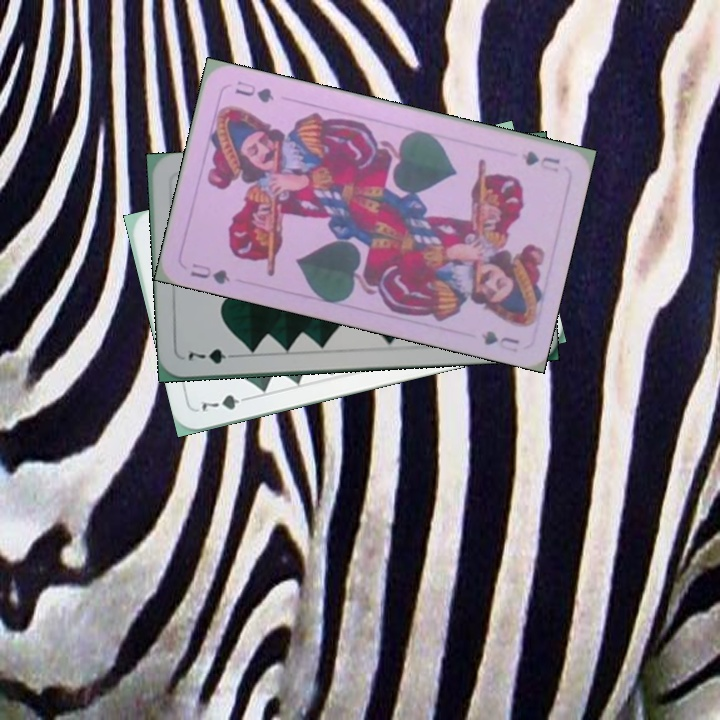G7: (196, 390, 255, 414), (184, 344, 242, 366)
GU: (186, 259, 233, 287), (518, 147, 563, 175)
